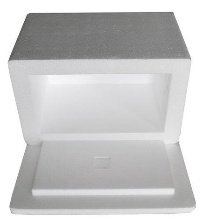foam_box: (4, 6, 198, 219)
